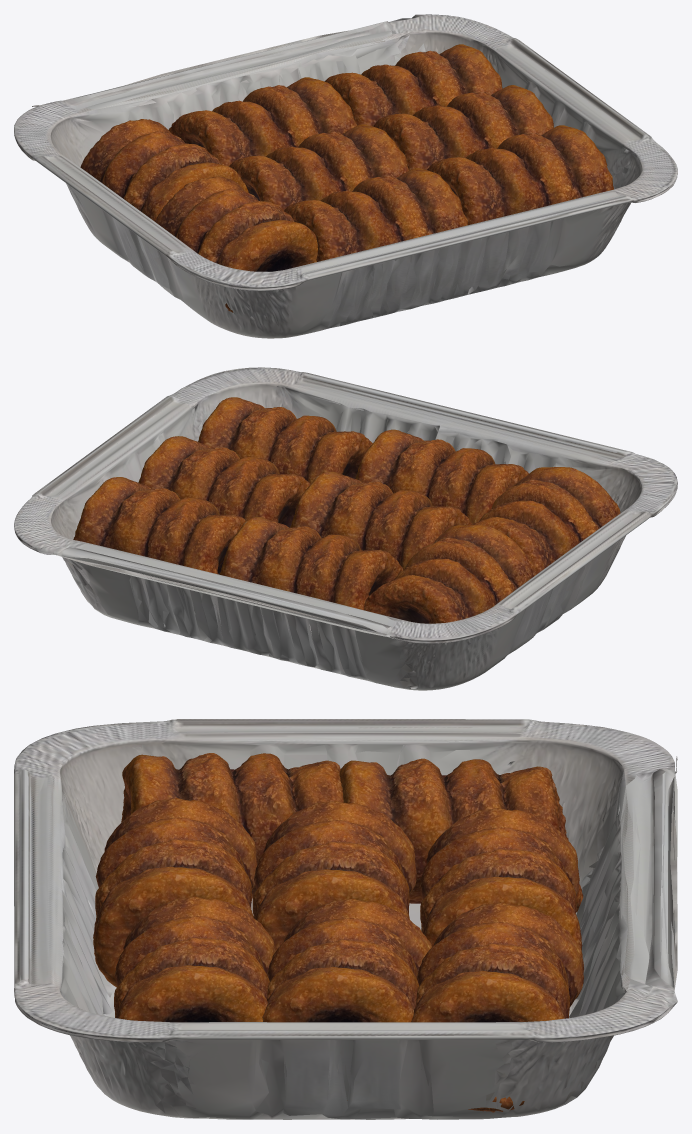
Rendered from onion,kg.glb.
3 views of the same model, one above another, from view 1: azimuth 30°, elevation 25°; view 2: azimuth 150°, elevation 25°; view 3: azimuth 270°, elevation 25° (orthographic). The views are drawn at different scales.
Parts seen in each view (by area): view 1: node_0, 3DModel, 3DModel.004, 3DModel.001, 3DModel.005, 3DModel.003, 3DModel.002, 3DModel.007, 3DModel.006; view 2: node_0, 3DModel.007, 3DModel.006, 3DModel.005, 3DModel.003, 3DModel.002, 3DModel.001, 3DModel, 3DModel.004; view 3: node_0, 3DModel.006, 3DModel, 3DModel.001, 3DModel.002, 3DModel.003, 3DModel.005, 3DModel.007, 3DModel.004.
Boxes of the visible parts, left/top/right/bottom form: node_0: left=14, top=14, right=677, bottom=338; 3DModel: left=426, top=125, right=613, bottom=225; 3DModel.004: left=155, top=176, right=317, bottom=312; 3DModel.001: left=284, top=168, right=467, bottom=261; 3DModel.005: left=169, top=77, right=357, bottom=166; 3DModel.003: left=229, top=124, right=409, bottom=210; 3DModel.002: left=372, top=85, right=553, bottom=170; 3DModel.007: left=80, top=119, right=248, bottom=221; 3DModel.006: left=324, top=44, right=502, bottom=126; node_0: left=14, top=367, right=677, bottom=690; 3DModel.007: left=364, top=525, right=536, bottom=623; 3DModel.006: left=73, top=477, right=245, bottom=574; 3DModel.005: left=220, top=517, right=402, bottom=610; 3DModel.003: left=290, top=471, right=472, bottom=569; 3DModel.002: left=138, top=436, right=310, bottom=527; 3DModel.001: left=355, top=429, right=529, bottom=523; 3DModel: left=198, top=397, right=372, bottom=483; 3DModel.004: left=471, top=467, right=620, bottom=573; node_0: left=14, top=719, right=677, bottom=1119; 3DModel.006: left=411, top=902, right=583, bottom=1112; 3DModel: left=114, top=896, right=275, bottom=1022; 3DModel.001: left=93, top=798, right=257, bottom=987; 3DModel.002: left=262, top=898, right=431, bottom=1100; 3DModel.003: left=252, top=800, right=416, bottom=951; 3DModel.005: left=419, top=808, right=582, bottom=950; 3DModel.007: left=339, top=758, right=583, bottom=912; 3DModel.004: left=121, top=753, right=343, bottom=898.
Size of the model in its own units: 0.3177 by 0.0683 by 0.2808.
Materials: 2 (2 with a texture image).
